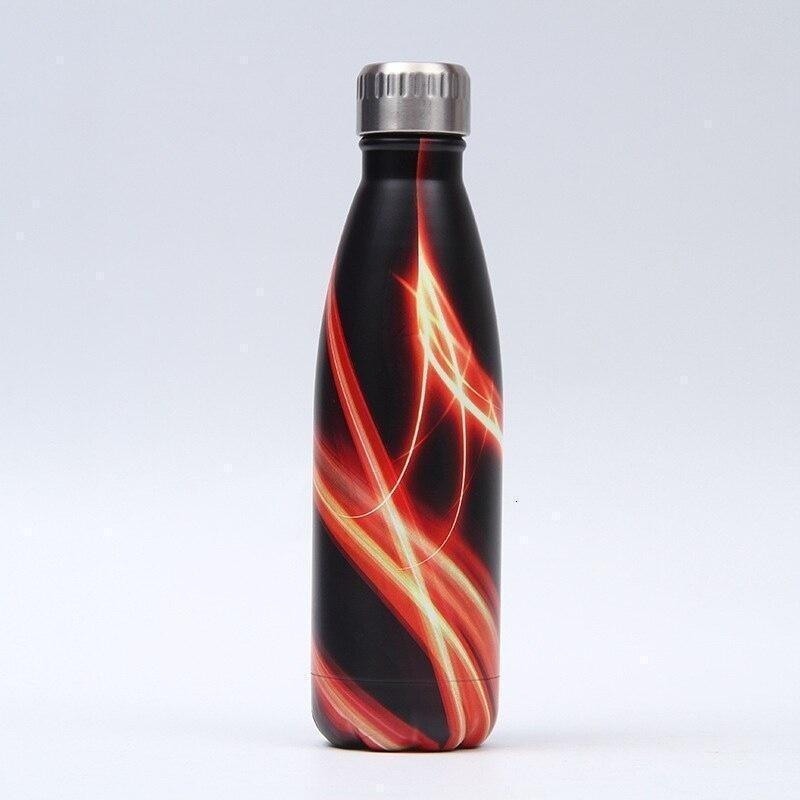gym bottle: (306, 50, 506, 761)
